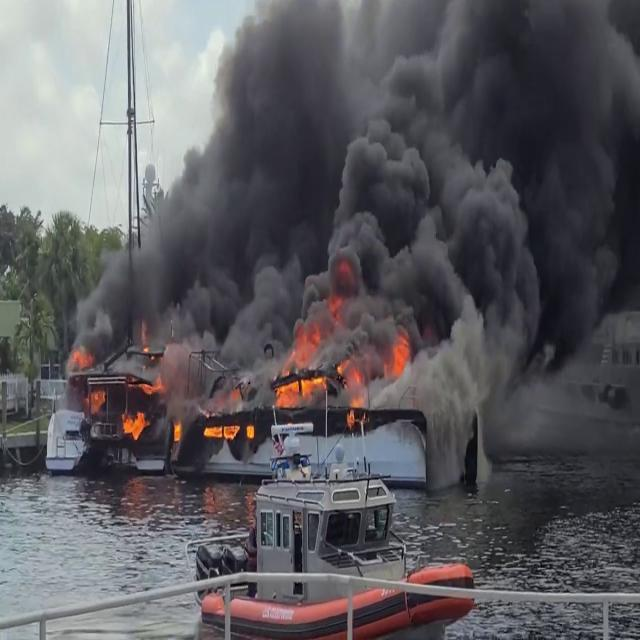Fire: (276, 319, 325, 404), (66, 343, 108, 421), (204, 413, 256, 446), (387, 328, 412, 380), (120, 404, 149, 444), (66, 343, 100, 375)
Smoke: (73, 0, 640, 384)
